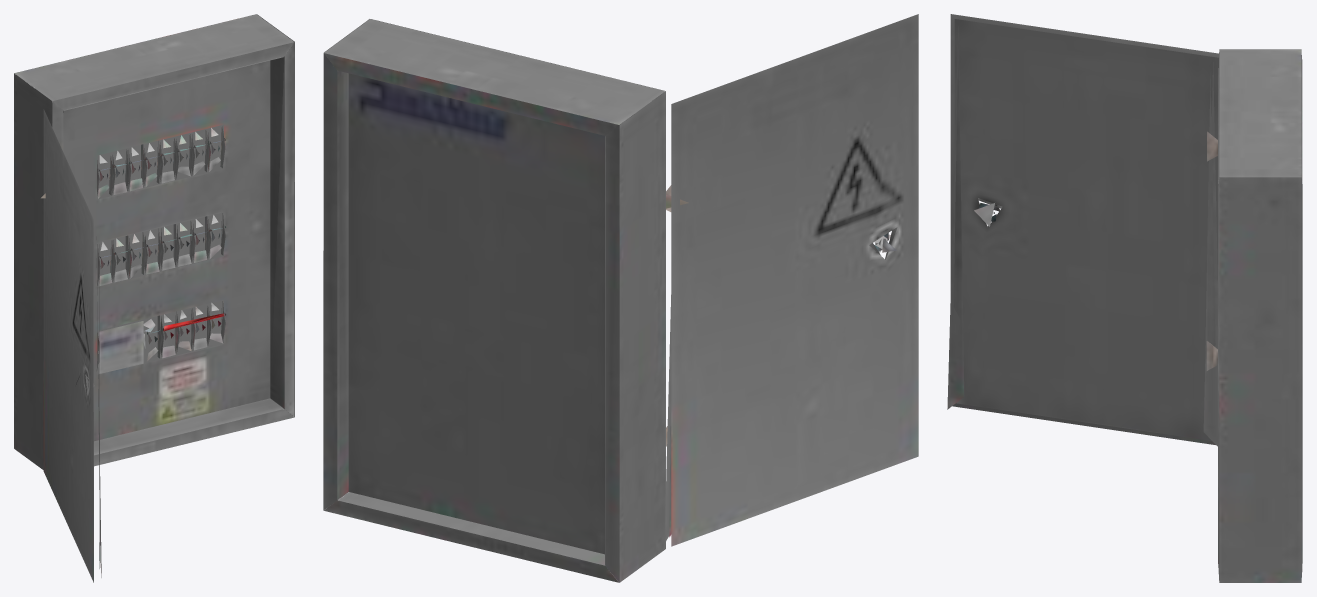
The model's file is power_box_01.glb.
3 renders of one model, left to right at view 1: azimuth 30°, elevation 25°; view 2: azimuth 150°, elevation 25°; view 3: azimuth 270°, elevation 25°, orthographic. The views are drawn at different scales.
Visible parts, largest first — view 1: power_box_01_door; view 2: power_box_01_door; view 3: power_box_01_door.
Boxes of the visible parts, x1,y1,x2,y2 form: power_box_01_door: (14,14,294,582); power_box_01_door: (323,14,918,582); power_box_01_door: (947,14,1302,582).
Size of the model in its own units: 0.4575 by 0.5037 by 0.3994.
Materials: 1 (1 with a texture image).
